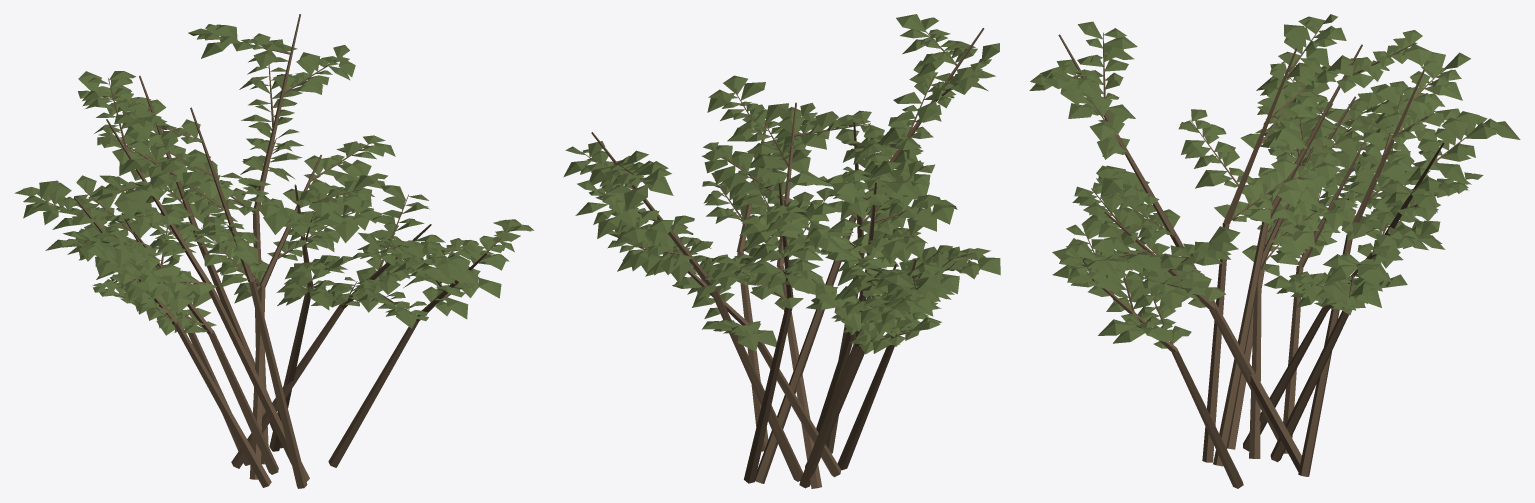
Rendered from ScrubTall.glb.
The picture shows the model from 3 angles, left to right: view 1: azimuth 30°, elevation 25°; view 2: azimuth 150°, elevation 25°; view 3: azimuth 270°, elevation 25°; orthographic projection. The views are drawn at different scales.
Parts seen in each view (by area): view 1: ScrubTallVisual; view 2: ScrubTallVisual; view 3: ScrubTallVisual.
Boxes of the visible parts, x1,y1,x2,y2 form: ScrubTallVisual: [14, 14, 534, 488]; ScrubTallVisual: [563, 14, 1000, 488]; ScrubTallVisual: [1029, 14, 1520, 488].
Size of the model in its own units: 1.37 by 1.31 by 1.49.
